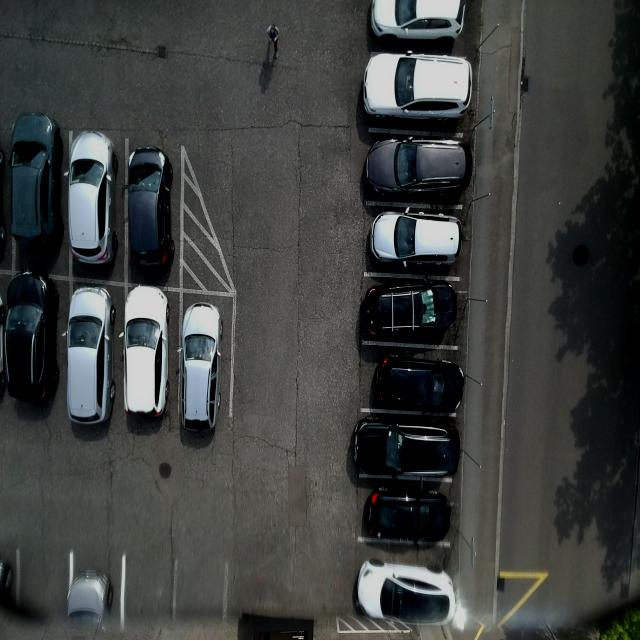car: (361, 55, 476, 127), (362, 136, 472, 203), (6, 273, 62, 404), (68, 126, 118, 269), (67, 286, 117, 425), (11, 113, 61, 249), (123, 286, 171, 421), (179, 300, 226, 437), (359, 280, 457, 343), (352, 422, 462, 478), (354, 564, 459, 621), (127, 148, 175, 272), (368, 357, 466, 415), (366, 210, 462, 266), (365, 491, 455, 542)
